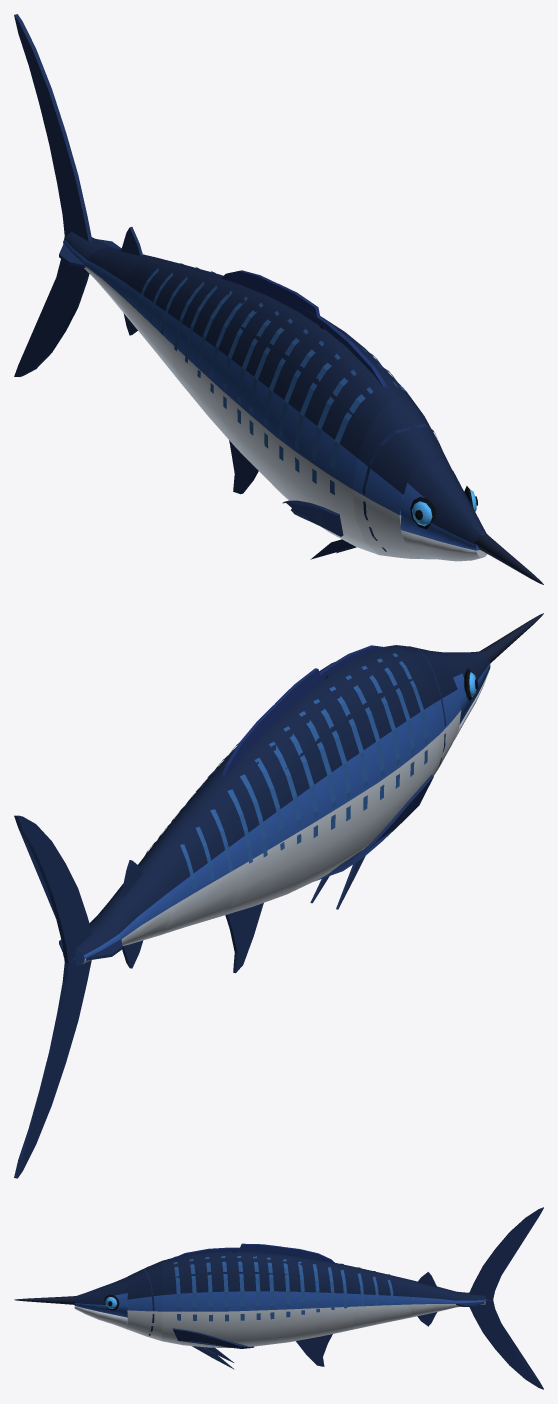
The model's file is legend_blue_marlin.fbx.
3 views of the same model, one above another, from view 1: azimuth 30°, elevation 25°; view 2: azimuth 150°, elevation 25°; view 3: azimuth 270°, elevation 25° (orthographic). The views are drawn at different scales.
Visible parts, largest first — view 1: geo_Spine.F, geo_Head, geo_Spine.B1, geo_Spine.B2, geo_Tail.Upper, geo_Tail.Lower, geo_Spine.B3, geo_Jaw, geo_Tail, geo_Pec.R, geo_Dorsal1, geo_Bill; view 2: geo_Spine.F, geo_Spine.B1, geo_Spine.B2, geo_Head, geo_Tail.Upper, geo_Tail.Lower, geo_Spine.B3, geo_Tail, geo_Pec.R, geo_Dorsal1, geo_Bill; view 3: geo_Spine.F, geo_Spine.B1, geo_Head, geo_Spine.B2, geo_Tail.Upper, geo_Tail.Lower, geo_Spine.B3, geo_Pec.L, geo_Jaw, geo_Tail, geo_Dorsal1, geo_Bill.
Part boxes in pixels (left/top/right/bottom): geo_Spine.F: left=233, top=283, right=423, bottom=554; geo_Head: left=352, top=400, right=485, bottom=559; geo_Spine.B1: left=170, top=270, right=279, bottom=494; geo_Spine.B2: left=124, top=256, right=215, bottom=381; geo_Tail.Upper: left=14, top=14, right=92, bottom=241; geo_Tail.Lower: left=14, top=236, right=89, bottom=376; geo_Spine.B3: left=85, top=247, right=154, bottom=320; geo_Jaw: left=401, top=530, right=487, bottom=561; geo_Tail: left=59, top=232, right=121, bottom=269; geo_Pec.R: left=282, top=500, right=343, bottom=536; geo_Dorsal1: left=293, top=306, right=387, bottom=388; geo_Bill: left=474, top=532, right=543, bottom=584; geo_Spine.F: left=275, top=645, right=439, bottom=888; geo_Spine.B1: left=186, top=703, right=326, bottom=973; geo_Spine.B2: left=138, top=795, right=241, bottom=935; geo_Head: left=396, top=645, right=490, bottom=775; geo_Tail.Upper: left=14, top=815, right=92, bottom=963; geo_Tail.Lower: left=14, top=958, right=91, bottom=1178; geo_Spine.B3: left=89, top=865, right=171, bottom=945; geo_Tail: left=59, top=921, right=122, bottom=965; geo_Pec.R: left=314, top=775, right=433, bottom=881; geo_Dorsal1: left=296, top=645, right=387, bottom=702; geo_Bill: left=479, top=613, right=543, bottom=663; geo_Spine.F: left=162, top=1243, right=283, bottom=1347; geo_Spine.B1: left=279, top=1246, right=352, bottom=1366; geo_Head: left=74, top=1261, right=162, bottom=1340; geo_Spine.B2: left=353, top=1266, right=411, bottom=1329; geo_Tail.Upper: left=469, top=1207, right=543, bottom=1300; geo_Tail.Lower: left=469, top=1300, right=543, bottom=1389; geo_Spine.B3: left=411, top=1280, right=456, bottom=1317; geo_Pec.L: left=172, top=1328, right=254, bottom=1348; geo_Jaw: left=74, top=1306, right=127, bottom=1329; geo_Tail: left=456, top=1291, right=485, bottom=1307; geo_Dorsal1: left=172, top=1247, right=263, bottom=1259; geo_Bill: left=14, top=1296, right=76, bottom=1304.
Bounding box in the file's own units: 0.112 × 0.3782 × 0.9995.
